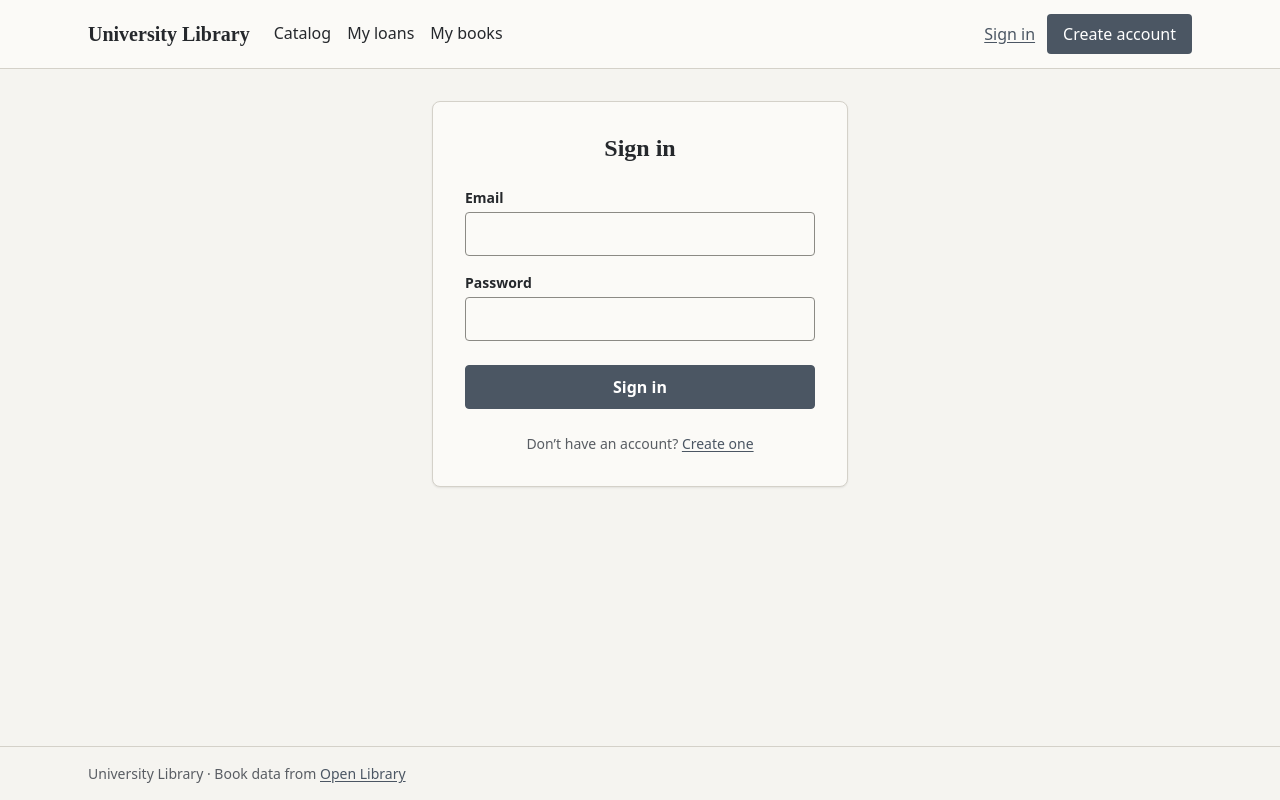
Test: Inicio de sesión y rutas protegidas (integración) › con credenciales incorrectas muestra el error de Supabase traducido
The image size is (1280, 800).
Type "ana@correo.com" into the field labelled "Email". click: (640, 234)
box: [465,212,815,256]
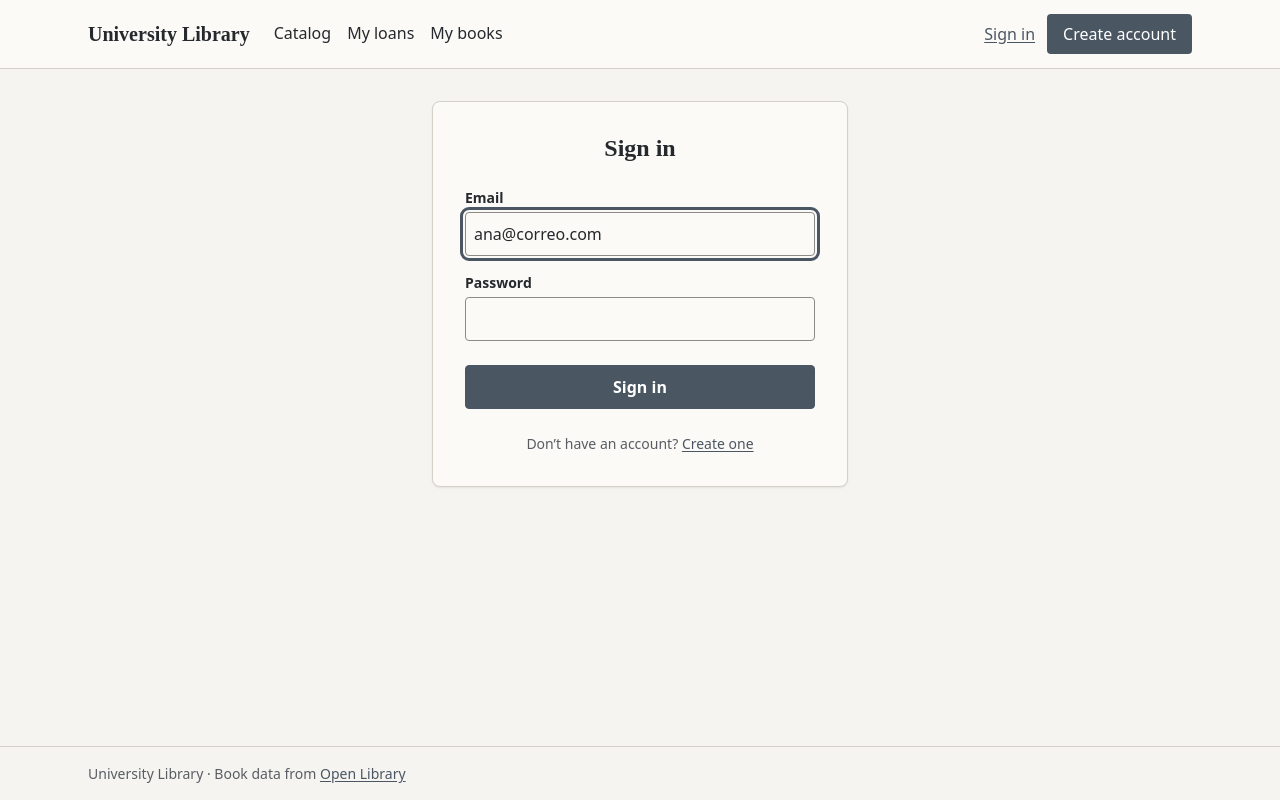
Type "Incorrecta1" into the password field labelled "Password". click: (640, 319)
box: [465,297,815,341]
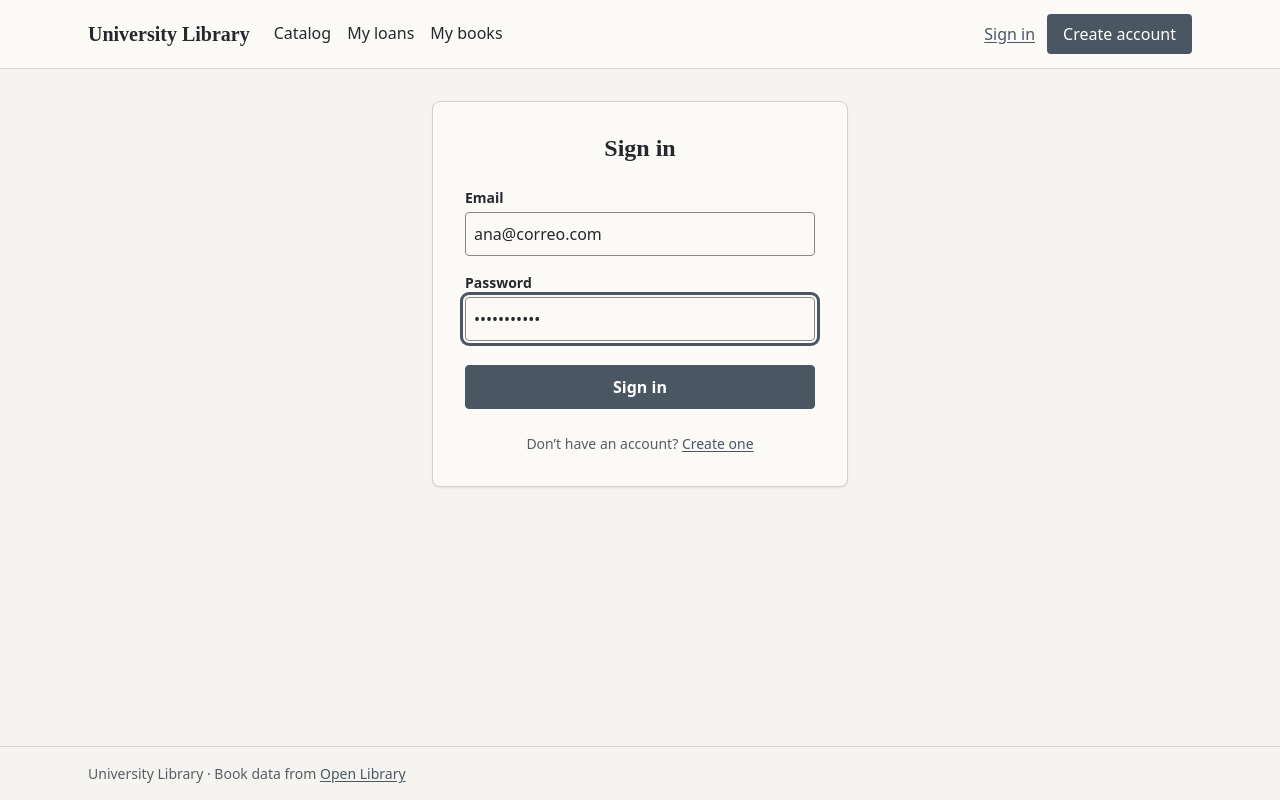
Click the button "Sign in". click: (640, 387)
box: [465,365,815,409]
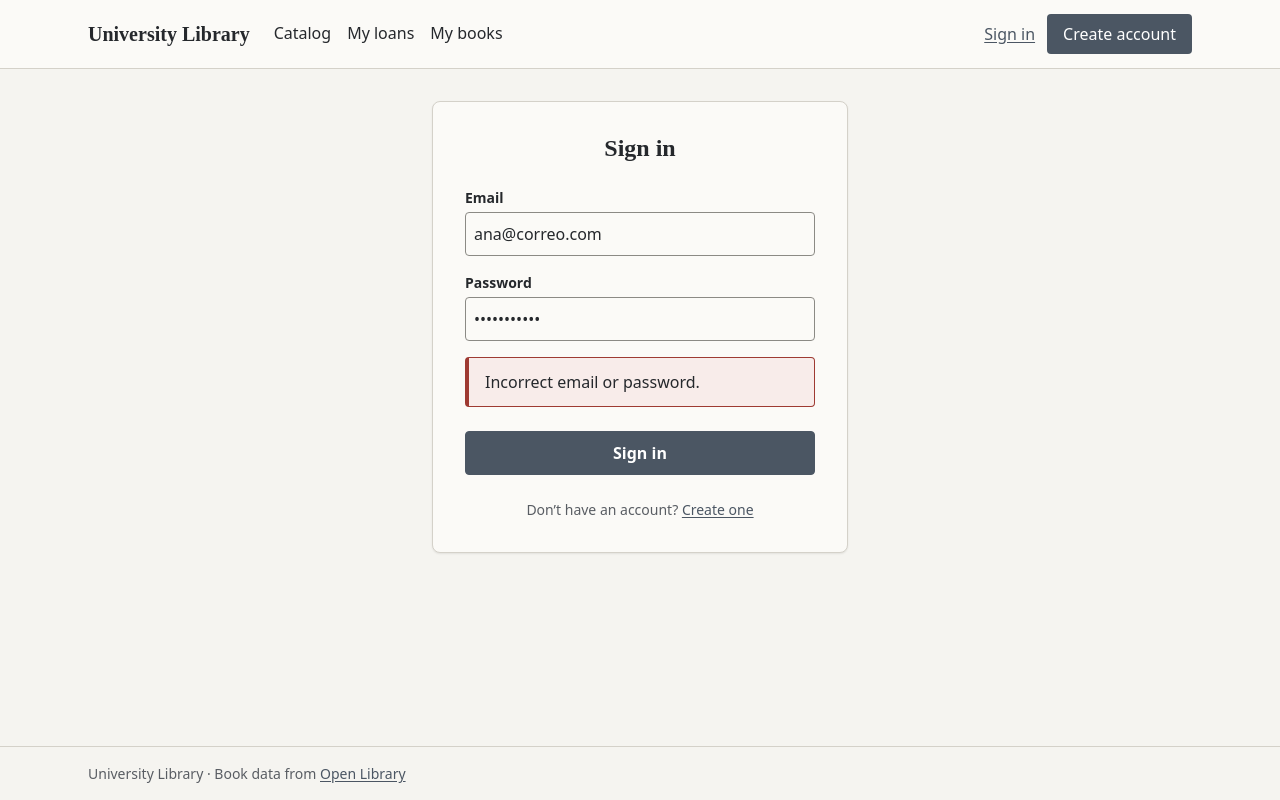
Expected: the message reads "Incorrect email or password.", [485,371,700,393]
